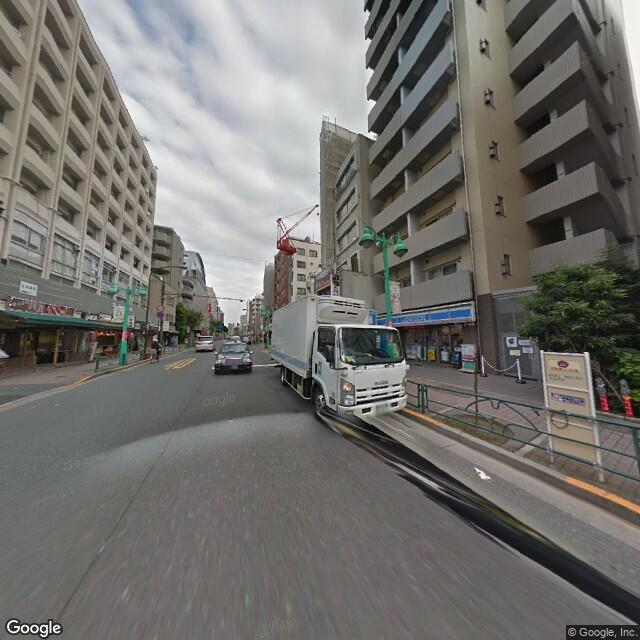lawson: (370, 298, 481, 329)
